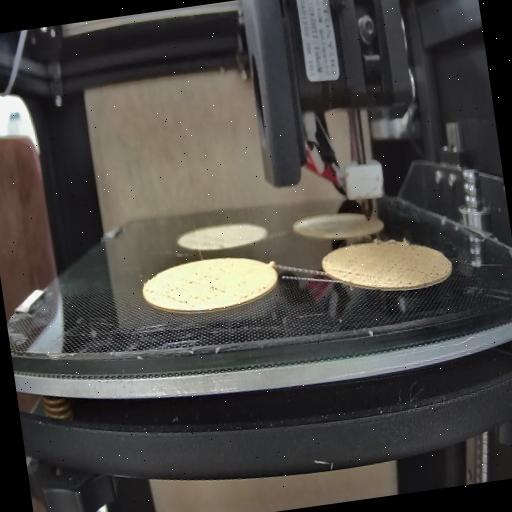under_extrusion: (158, 267, 228, 312), (384, 250, 439, 286), (334, 264, 374, 286), (238, 282, 269, 304)
